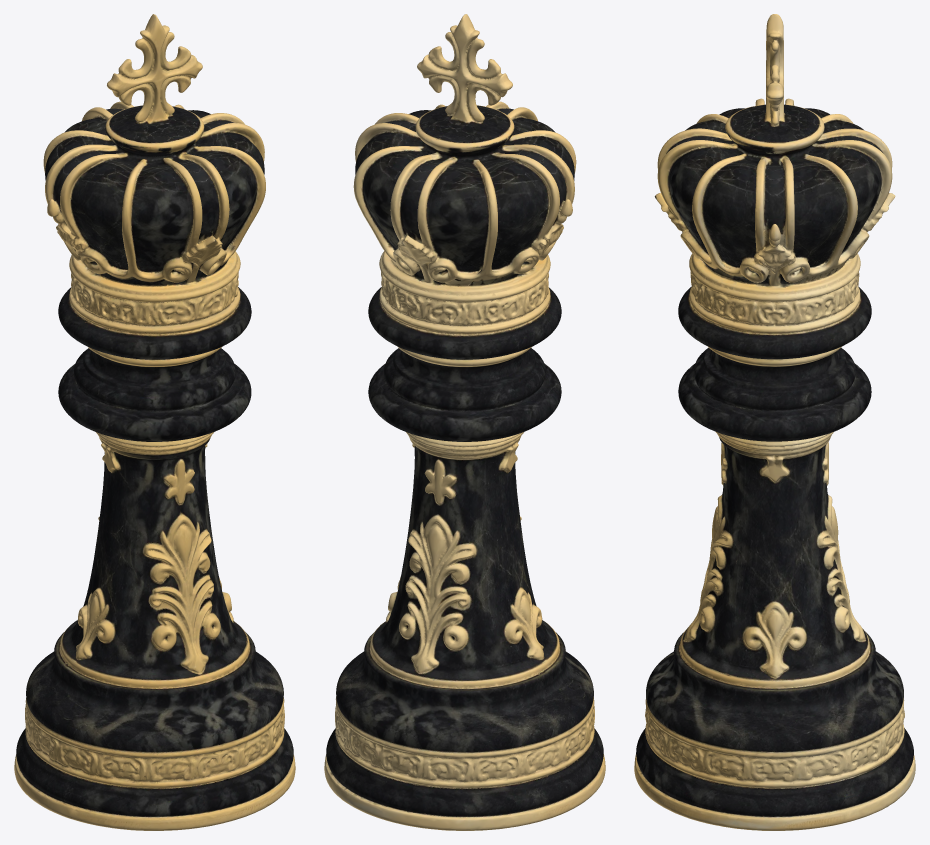
Rendered from baroque_queen_black_opt.glb.
3 renders of one model, left to right at view 1: azimuth 30°, elevation 25°; view 2: azimuth 150°, elevation 25°; view 3: azimuth 270°, elevation 25°, orthographic.
Size of the model in its own units: 0.6374 by 1.9 by 0.6379.
1 material, 1 textured.
